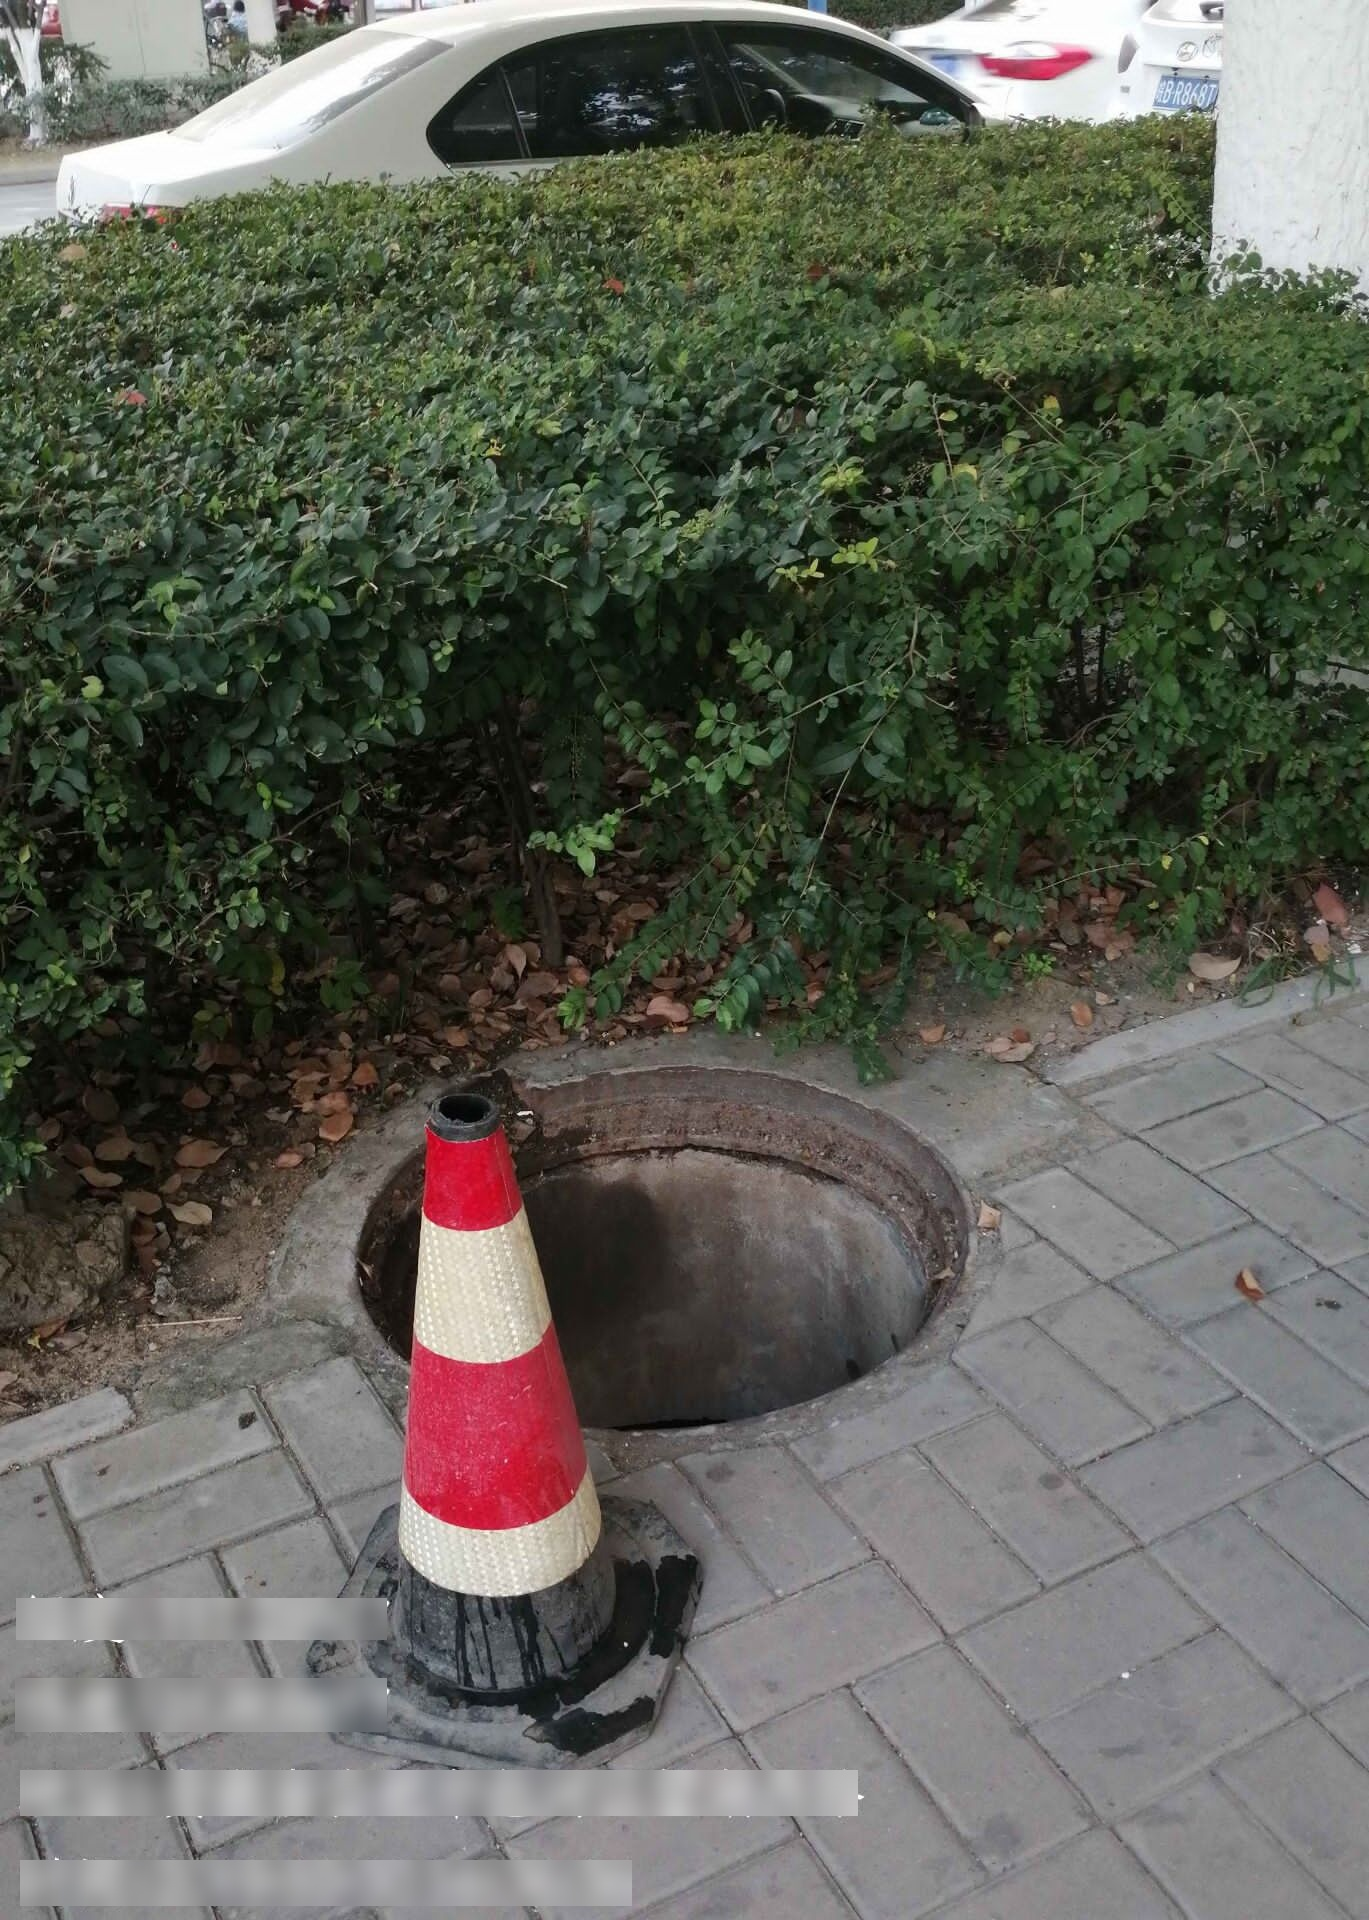lose: (348, 1067, 970, 1439)
